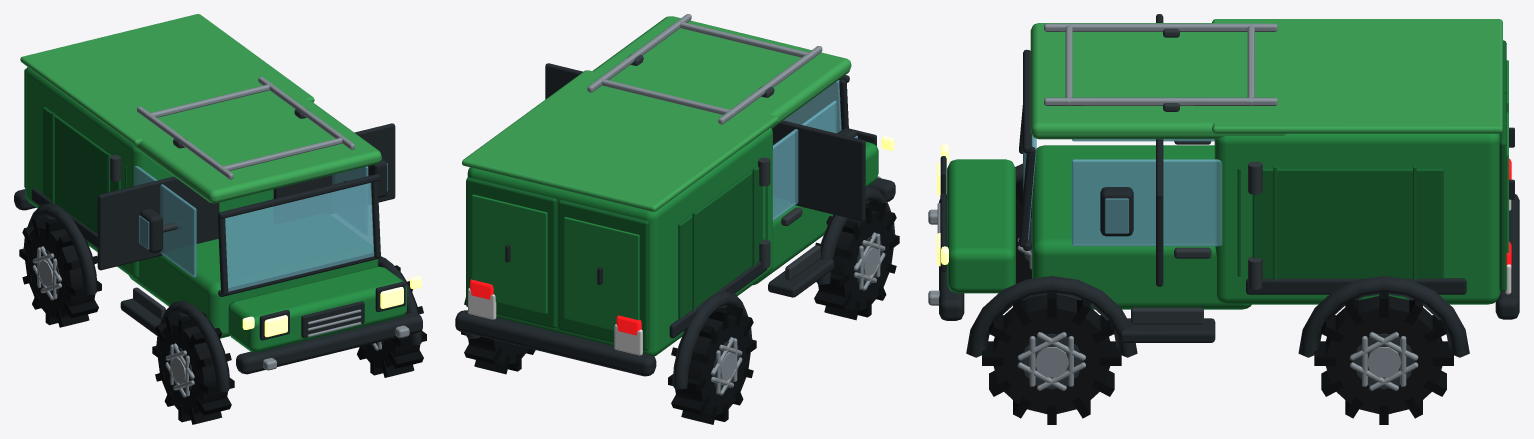
File: asset.glb
The picture shows the model from 3 angles, left to right: view 1: azimuth 30°, elevation 25°; view 2: azimuth 150°, elevation 25°; view 3: azimuth 270°, elevation 25°; orthographic projection. The views are drawn at different scales.
Parts seen in each view (by area): view 1: GreenLowPolyVan, LeftWheel (×2), RightWheel; view 2: GreenLowPolyVan, LeftWheel (×2), RightWheel; view 3: GreenLowPolyVan, RightWheel (×2), LeftWheel.
Part boxes in pixels (left/top/right/bottom): GreenLowPolyVan: left=14, top=14, right=422, bottom=392; LeftWheel (×2): left=19, top=216, right=234, bottom=424; RightWheel: left=357, top=265, right=426, bottom=377; GreenLowPolyVan: left=455, top=14, right=895, bottom=389; LeftWheel (×2): left=668, top=200, right=899, bottom=424; RightWheel: left=461, top=297, right=535, bottom=374; GreenLowPolyVan: left=928, top=14, right=1519, bottom=357; RightWheel (×2): left=982, top=292, right=1453, bottom=424; LeftWheel: left=1016, top=181, right=1031, bottom=283.
Bounding box in the file's own units: 3.22 × 2.46 × 4.45.
